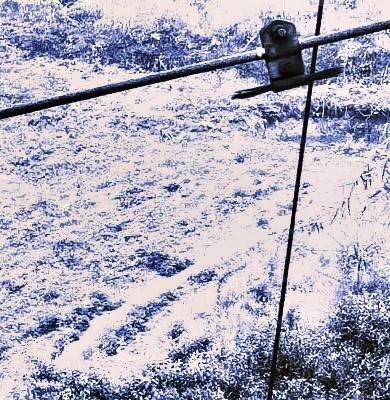Damage of shockproof hammer: (219, 16, 358, 115)
